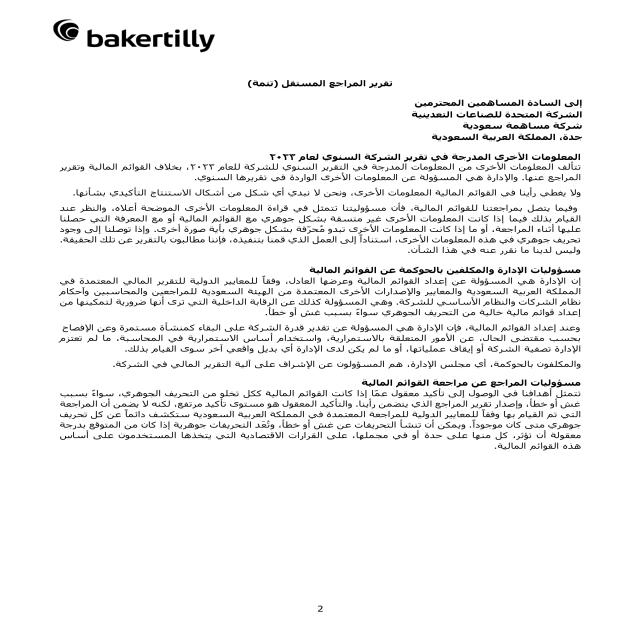auditor_report: (221, 70, 408, 99)
